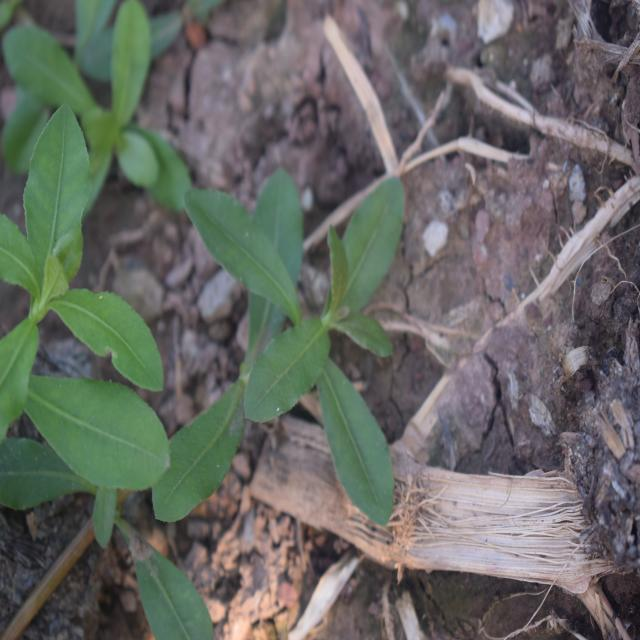Alligatorweed: (164, 141, 408, 553), (0, 87, 184, 550)
